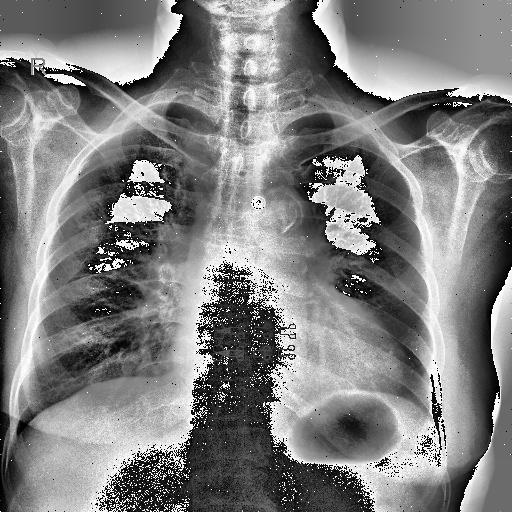0- Aortic enlargement: (252, 185, 312, 260), (247, 189, 304, 240), (244, 186, 302, 234)
3- Cardiomegaly: (171, 316, 403, 392), (170, 338, 402, 404), (169, 340, 407, 397)
